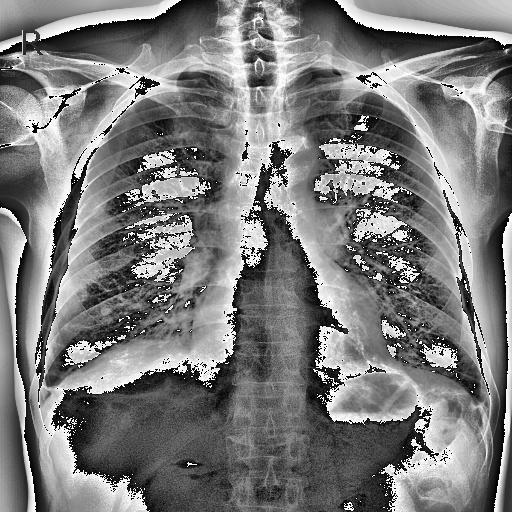0- Aortic enlargement: (279, 135, 320, 175)
10- Pleural effusion: (461, 374, 494, 408)
11- Pleural thickening: (455, 376, 486, 426), (461, 374, 494, 408), (466, 374, 488, 422)
13- Pulmonary fibrosis: (33, 337, 184, 389), (38, 378, 177, 402), (420, 234, 456, 246)
9- Other lesion: (40, 381, 170, 402)
